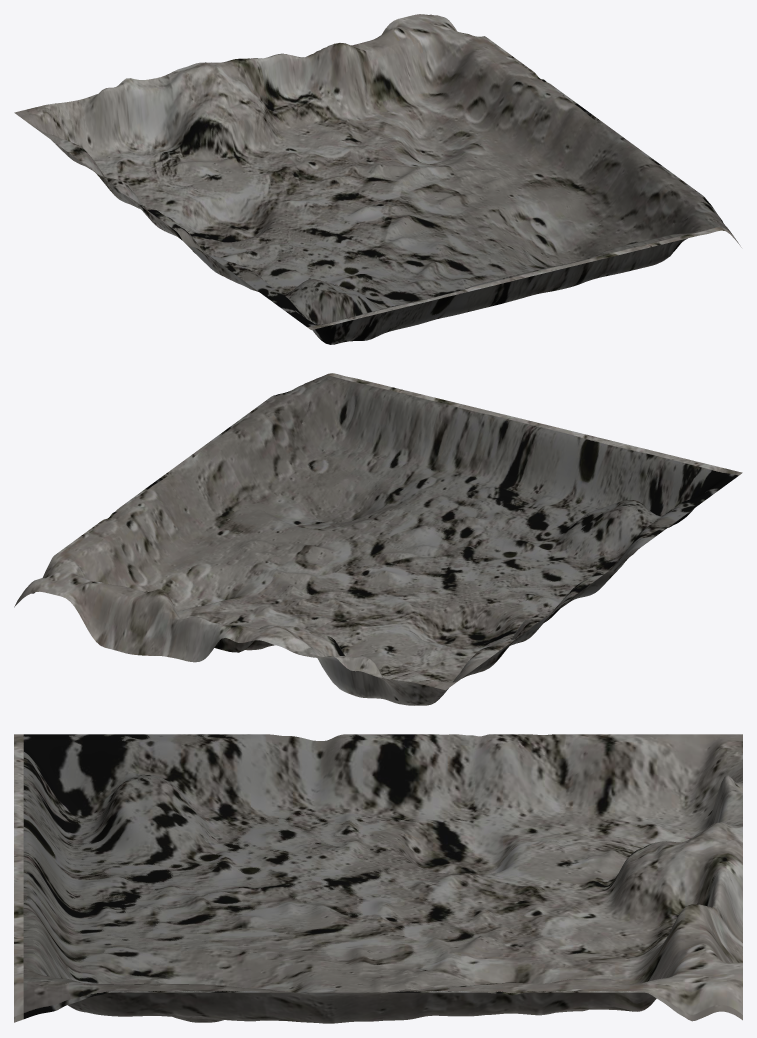
The model's file is plano_ok.fbx.
The picture shows the model from 3 angles, top to bottom: view 1: azimuth 30°, elevation 25°; view 2: azimuth 150°, elevation 25°; view 3: azimuth 270°, elevation 25°; orthographic projection. The views are drawn at different scales.
Parts seen in each view (by area): view 1: Plane002; view 2: Plane002; view 3: Plane002.
Part boxes in pixels (left/top/right/bottom): Plane002: left=14, top=14, right=741, bottom=344; Plane002: left=14, top=373, right=742, bottom=705; Plane002: left=14, top=734, right=742, bottom=1023.
Bounding box in the file's own units: 10063 × 1730 × 11999.
Materials: 1 (1 with a texture image).
